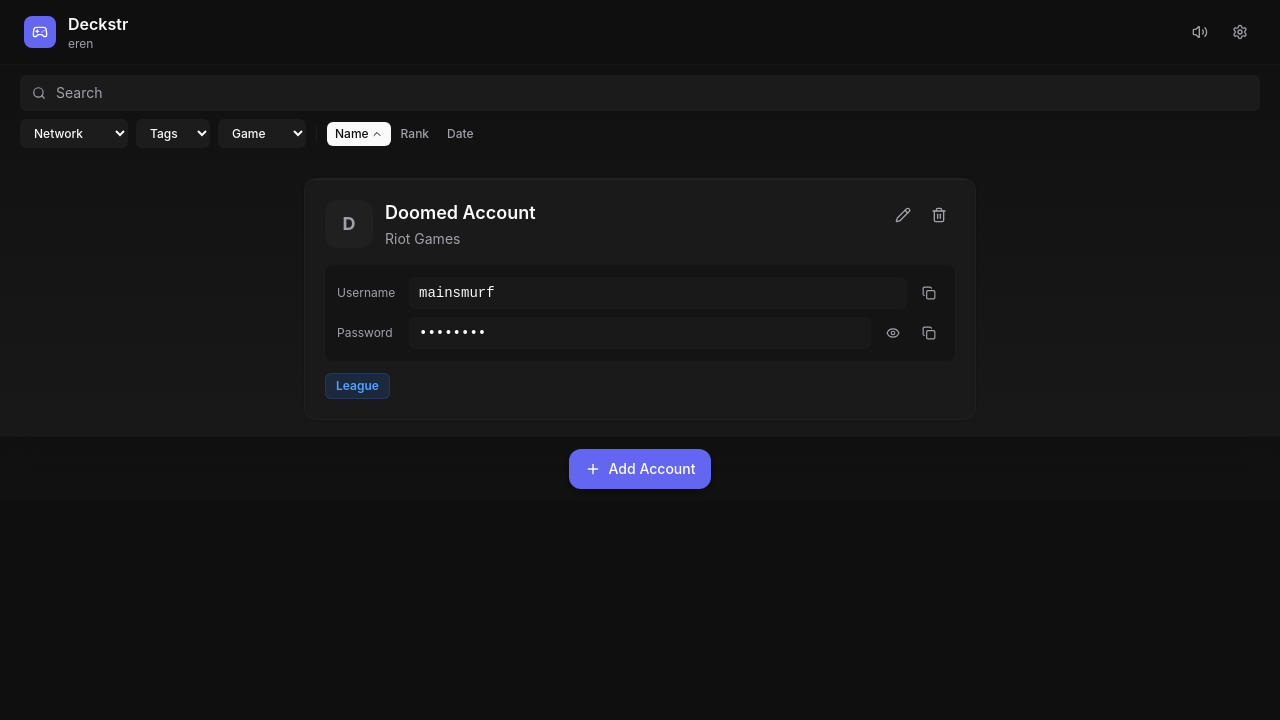
it: AccountList — delete flow › opens the delete modal when the trash icon is clicked
Click the button named "delete account": (939, 215) top-left (923, 199), bottom-right (955, 231)
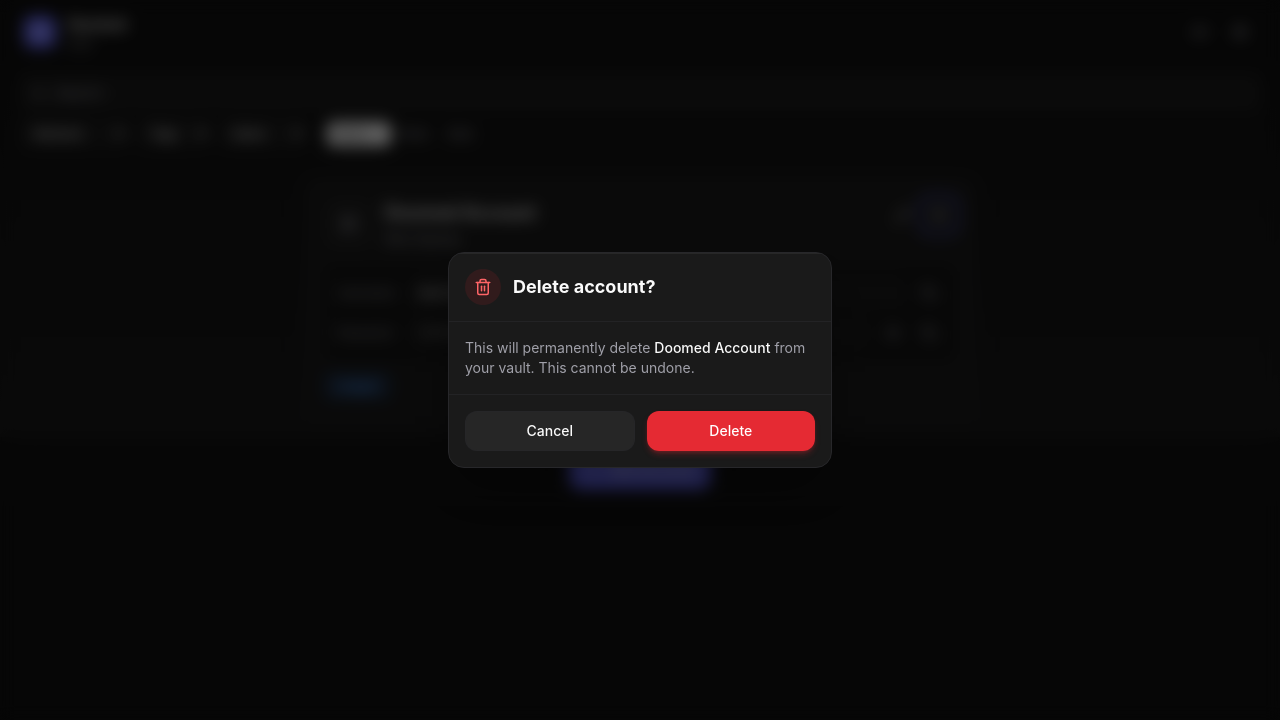
Check: the text "permanently delete" is shown, box top-left (465, 339), bottom-right (650, 356)
Check: the heading "Delete account?" is shown, box top-left (513, 273), bottom-right (656, 301)
